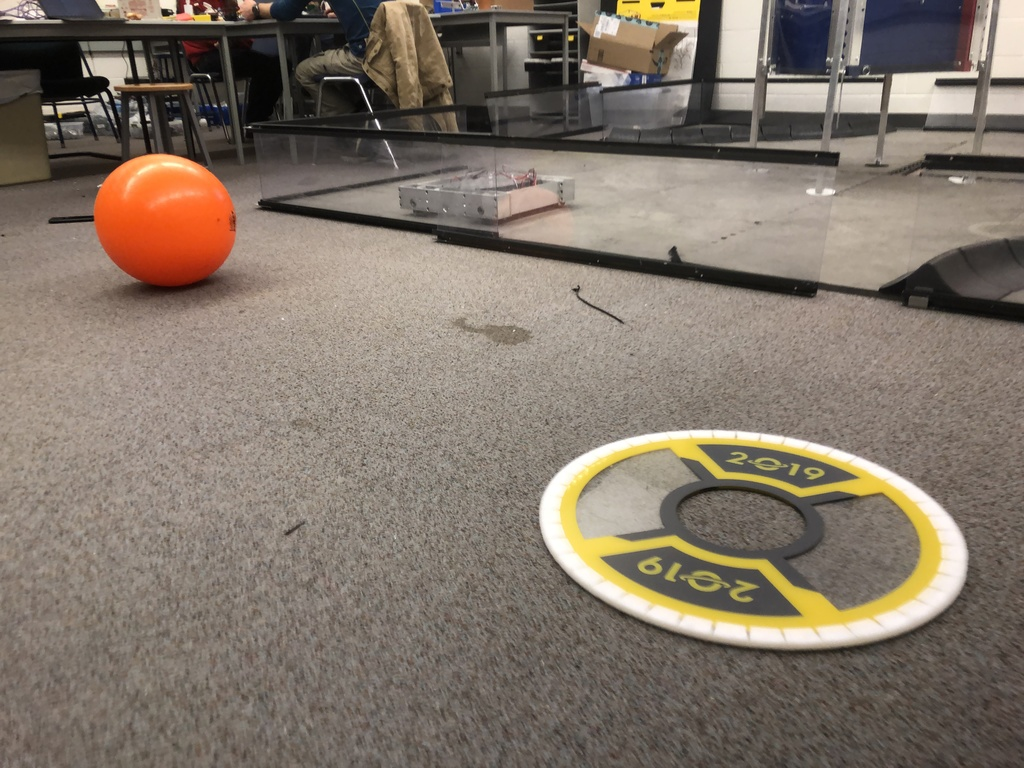hatch_panel: (528, 415, 1003, 677)
